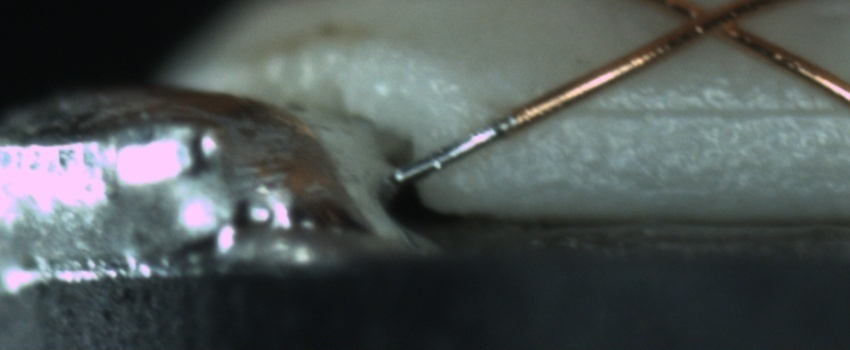CL: (668, 1, 752, 44)
DL: (568, 78, 849, 138)
TS: (397, 112, 520, 183)
